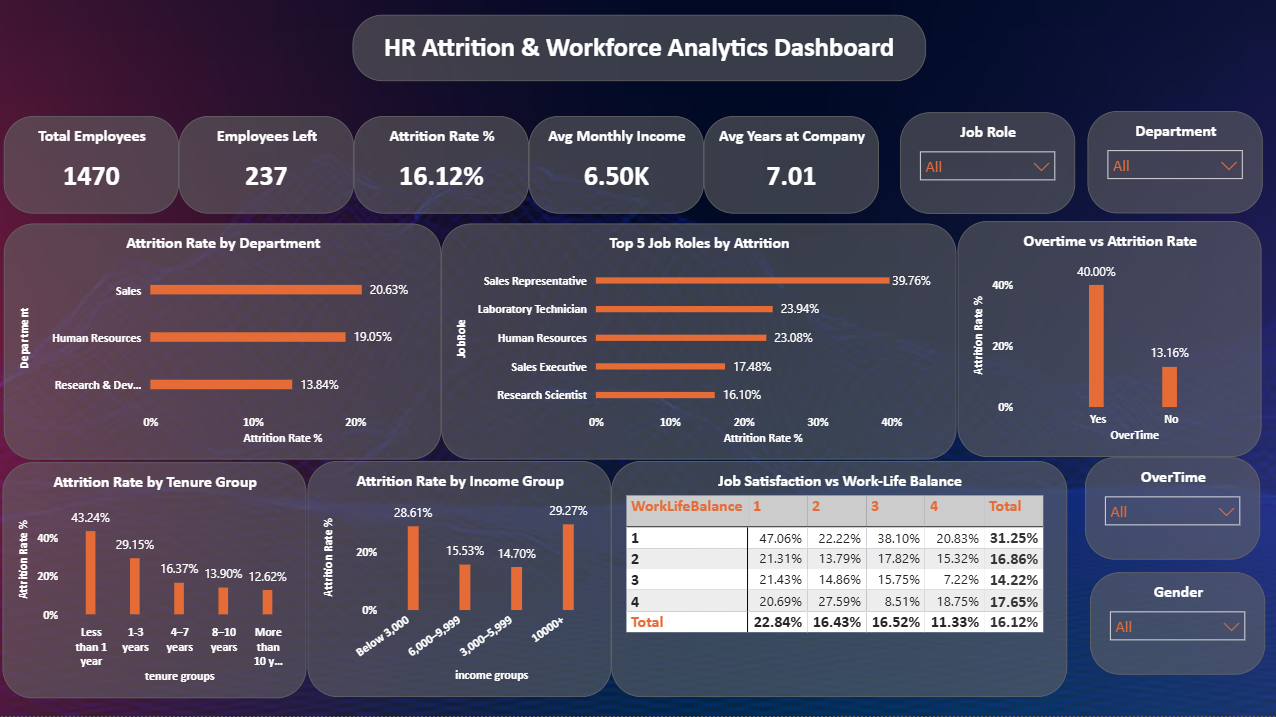

The dashboard page shown, as its layout file describes it:
{"tool":"powerbi","page":{"name":"Page 1","canvas":[1280,720],"ordinal":0},"visuals":[{"type":"textbox","box":[352.2,18.3,573.5,66],"z":0},{"type":"card","title":"Attrition Rate %","fields":{"Values":["All Measures.Attrition Rate %"]},"box":[353.7,120.2,174.9,97.8],"z":1000},{"type":"card","title":"Employees Left ","fields":{"Values":["All Measures.Employees Left"]},"box":[178.9,120.2,174.9,97.8],"z":2000},{"type":"card","title":"Total Employees","fields":{"Values":["All Measures.Total no.of employees"]},"box":[4,120.2,174.9,97.8],"z":3000},{"type":"card","title":"Avg Monthly Income","fields":{"Values":["All Measures.Avg monthly income"]},"box":[528.6,119.9,174.9,97.8],"z":4000},{"type":"barChart","title":"Attrition Rate by Department","fields":{"Category":["IBM-HR-Employee-Attrition.Department"],"Y":["All Measures.Attrition Rate %"]},"box":[3.8,227.5,437.5,236.2],"z":5000},{"type":"card","title":"Avg Years at Company","fields":{"Values":["All Measures.Avg no.of employement years"]},"box":[703.5,119.9,174.9,97.8],"z":6000},{"type":"clusteredBarChart","title":"Top 5 Job Roles by Attrition","fields":{"Y":["All Measures.Attrition Rate %"],"Category":["IBM-HR-Employee-Attrition.JobRole"]},"box":[441.2,227.5,515,236.2],"z":7000},{"type":"slicer","title":"Department","fields":{"Values":["IBM-HR-Employee-Attrition.Department"]},"box":[1087.5,115,175,102.5],"z":8000},{"type":"slicer","title":"Job Role","fields":{"Values":["IBM-HR-Employee-Attrition.JobRole"]},"box":[900,116.2,175,101.2],"z":9000},{"type":"slicer","title":"Gender","fields":{"Values":["IBM-HR-Employee-Attrition.Gender"]},"box":[1090,576.2,175,102.5],"z":10000},{"type":"slicer","title":"OverTime","fields":{"Values":["IBM-HR-Employee-Attrition.OverTime"]},"box":[1085,461.2,175,102.5],"z":11000},{"type":"clusteredColumnChart","title":"Overtime vs Attrition Rate","fields":{"Y":["All Measures.Attrition Rate %"],"Category":["IBM-HR-Employee-Attrition.OverTime"]},"box":[957.5,225,303.8,236.2],"z":12000},{"type":"columnChart","title":"Attrition Rate by Tenure Group","fields":{"Y":["All Measures.Attrition Rate %"],"Category":["IBM-HR-Employee-Attrition.tenure groups"]},"box":[2.5,466.2,303.8,236.2],"z":13000},{"type":"columnChart","title":"Attrition Rate by Income Group","fields":{"Y":["All Measures.Attrition Rate %"],"Category":["IBM-HR-Employee-Attrition.income groups"]},"box":[307.5,465,303.8,236.2],"z":14000},{"type":"pivotTable","title":"Job Satisfaction vs Work-Life Balance","fields":{"Rows":["IBM-HR-Employee-Attrition.WorkLifeBalance"],"Columns":["IBM-HR-Employee-Attrition.JobSatisfaction"],"Values":["All Measures.Attrition Rate %"]},"box":[611.4,464.7,456.1,236],"z":15000}]}

Visuals, with their boxes in screenshot pixels (x1, y1, x2, y2), scaled from the page's 1280x720 canvas onto the 1276x717 screenshot:
textbox: l=351, t=18, r=923, b=84
"Attrition Rate %" card: l=353, t=120, r=527, b=217
"Employees Left " card: l=178, t=120, r=353, b=217
"Total Employees" card: l=4, t=120, r=178, b=217
"Avg Monthly Income" card: l=527, t=119, r=701, b=217
"Attrition Rate by Department" barChart: l=4, t=227, r=440, b=462
"Avg Years at Company" card: l=701, t=119, r=876, b=217
"Top 5 Job Roles by Attrition" clusteredBarChart: l=440, t=227, r=953, b=462
"Department" slicer: l=1084, t=115, r=1259, b=217
"Job Role" slicer: l=897, t=116, r=1072, b=216
"Gender" slicer: l=1087, t=574, r=1261, b=676
"OverTime" slicer: l=1082, t=459, r=1256, b=561
"Overtime vs Attrition Rate" clusteredColumnChart: l=955, t=224, r=1257, b=459
"Attrition Rate by Tenure Group" columnChart: l=2, t=464, r=305, b=699
"Attrition Rate by Income Group" columnChart: l=307, t=463, r=609, b=698
"Job Satisfaction vs Work-Life Balance" pivotTable: l=609, t=463, r=1064, b=698
